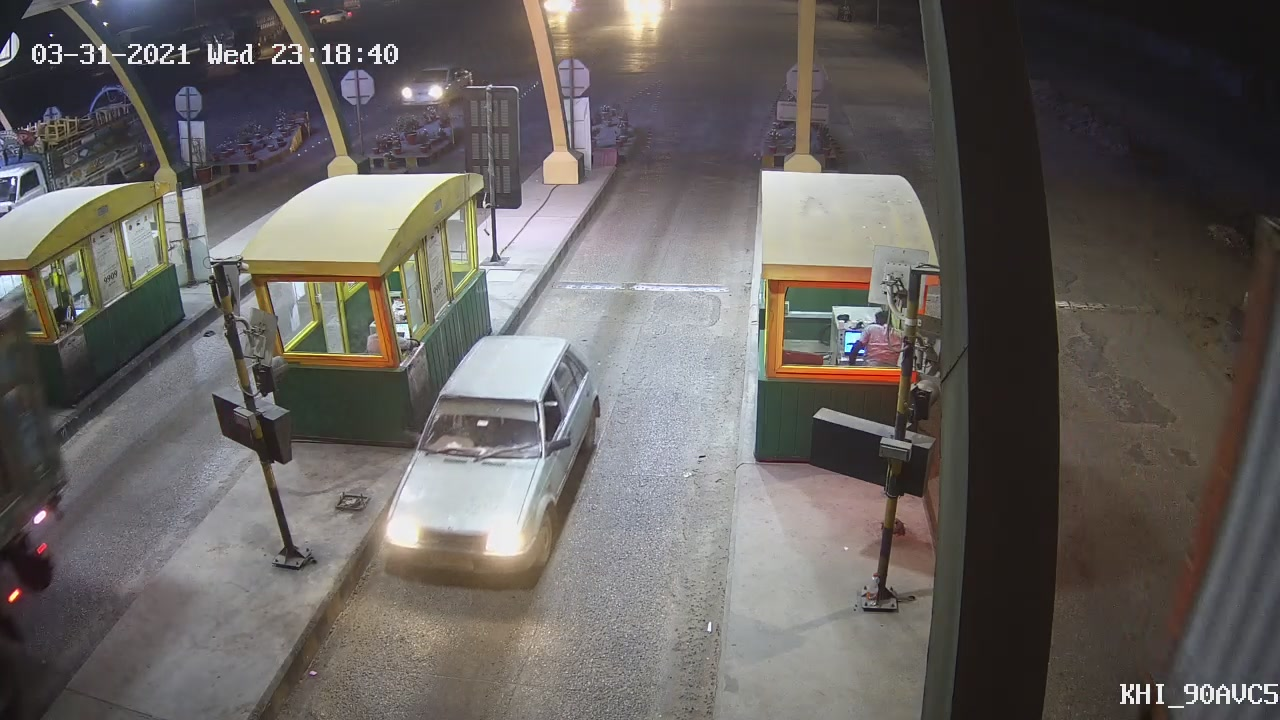F1: (359, 334, 621, 573)
